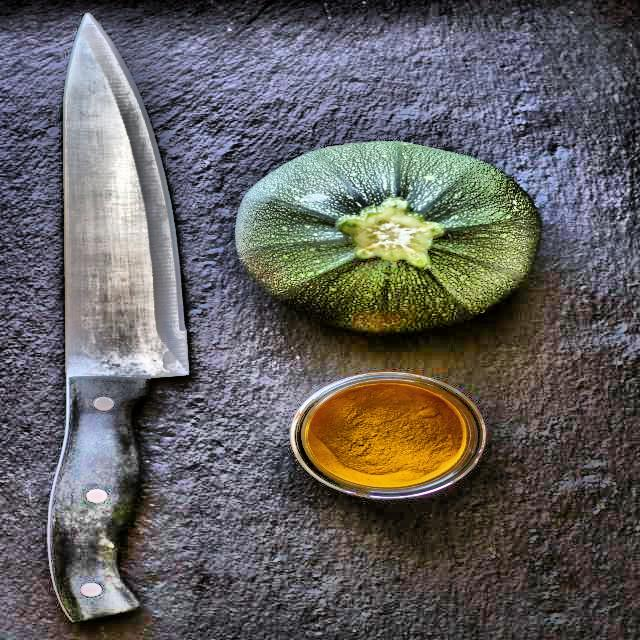knife: (54, 6, 215, 622)
